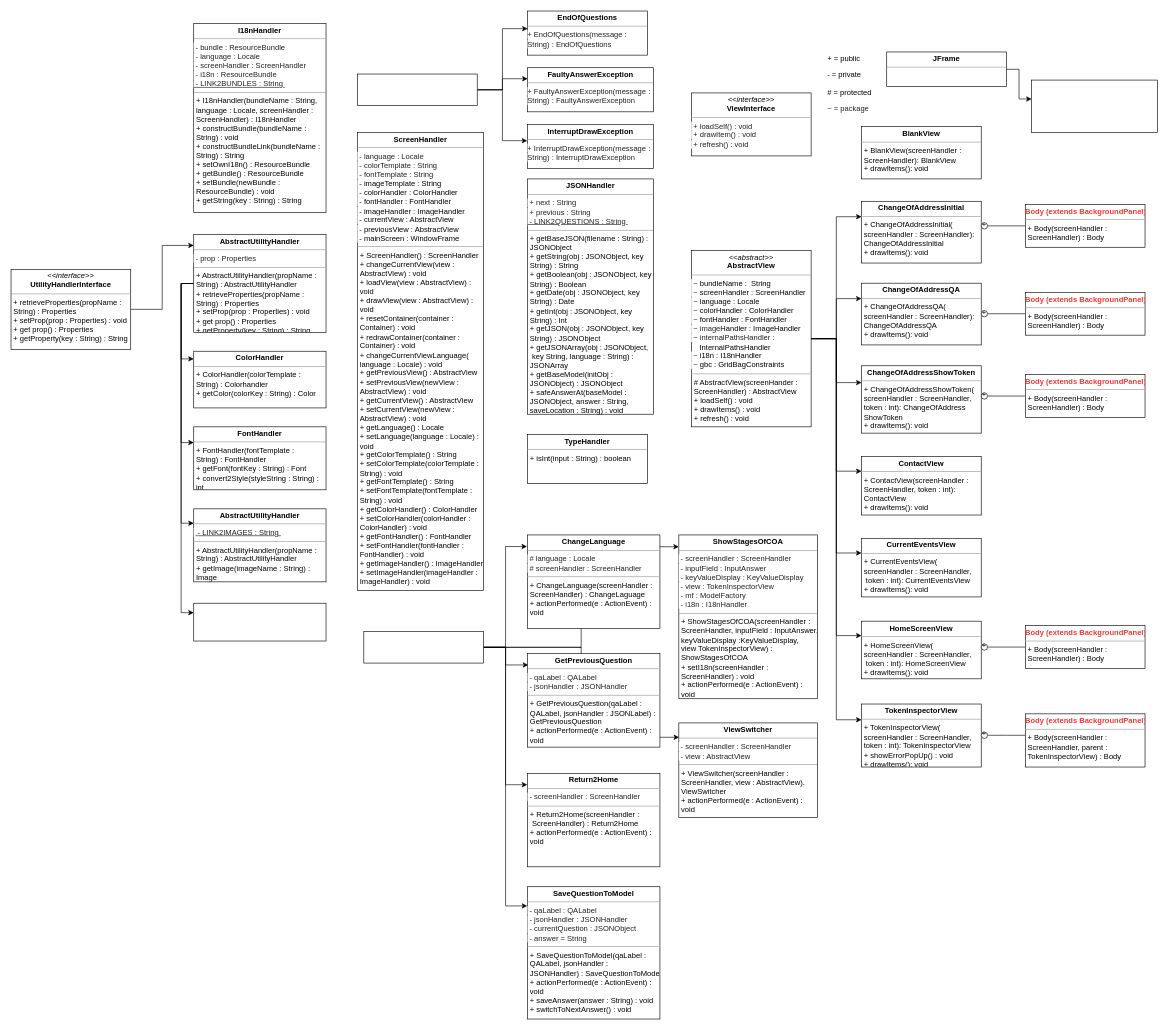
This 1169x1030 diagram has some shape labels left out. The centre of each missing label's shape, as x and y in pixels:
"ActionListener" goes at [423,647].
"Exception" goes at [417,89].
"InternalPathsHandler + InternalPathsHandler() : InternalPathsHandler" goes at [259,622].
"WindowFrame + WindowFrame() : WindowFrame" goes at [1094,105].
